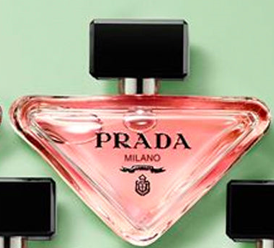prada_paradoxe: (6, 15, 272, 247)
